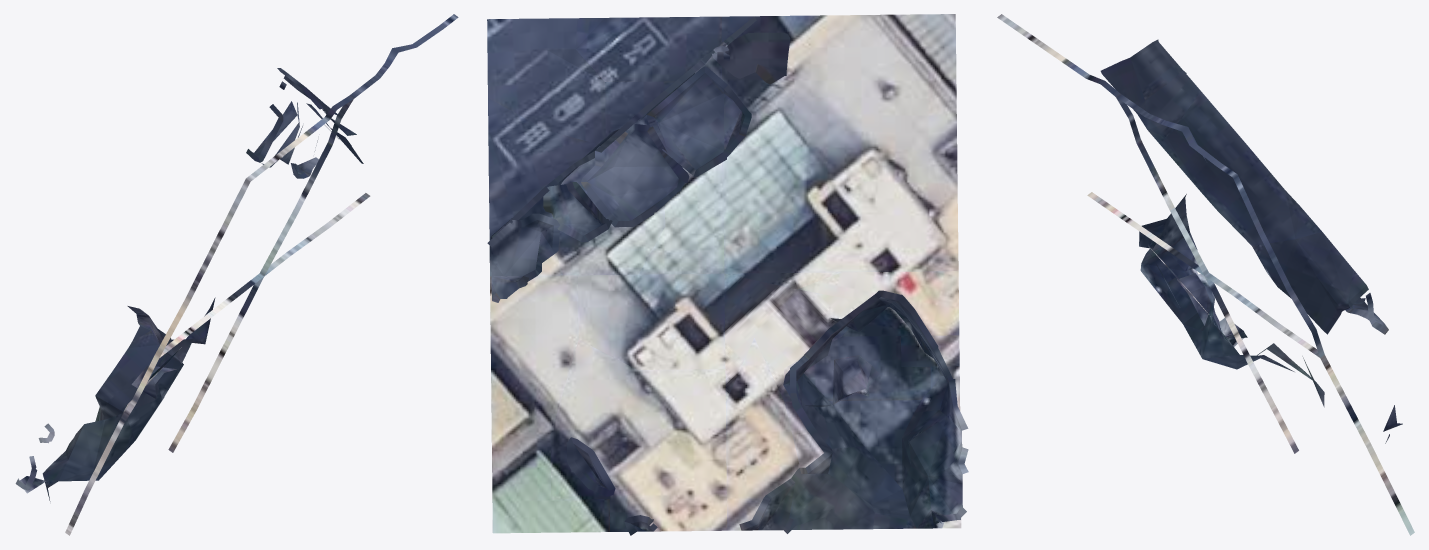
3 renders of one model, left to right at view 1: azimuth 30°, elevation 25°; view 2: azimuth 150°, elevation 25°; view 3: azimuth 270°, elevation 25°, orthographic. The views are drawn at different scales.
Size of the model in its own units: 40.73 by 37.03 by 32.32.
Materials: 1 (1 with a texture image).
